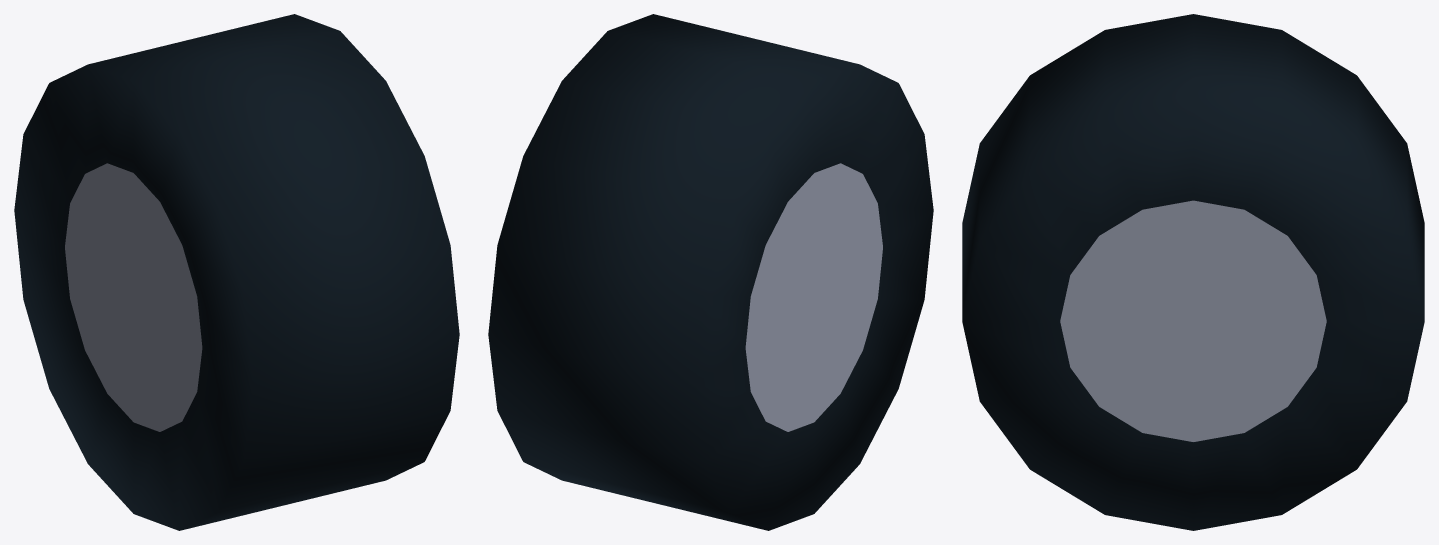
The model's file is wheel.glb.
3 renders of one model, left to right at view 1: azimuth 30°, elevation 25°; view 2: azimuth 150°, elevation 25°; view 3: azimuth 270°, elevation 25°, orthographic. The views are drawn at different scales.
Visible parts, largest first — view 1: Cylinder; view 2: Cylinder; view 3: Cylinder.
Part boxes in pixels (x1,y1,x2,y2): Cylinder: (14, 14, 459, 530); Cylinder: (488, 14, 933, 530); Cylinder: (962, 14, 1424, 530).
Size of the model in its own units: 0.25 by 0.5 by 0.5.
1 material, 1 textured.
